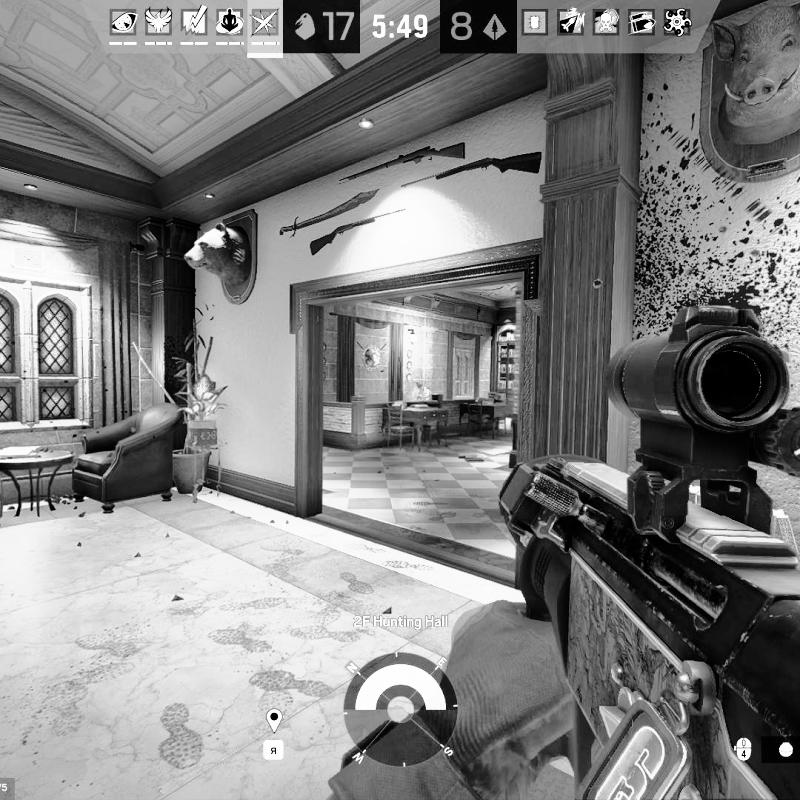Character: (415, 379, 434, 402)
Head: (416, 380, 426, 390)
